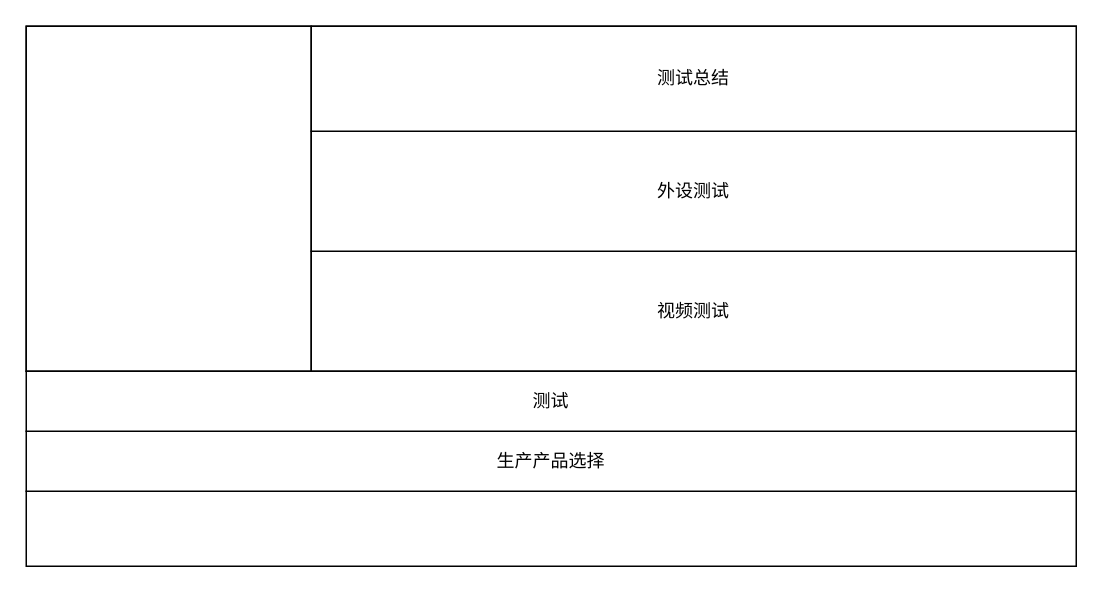
This 1103x593 diagram has some shape labels left out. The shapes that lost their labels are listed below. From the top down, each one's box as (x1, y1, x2, y2) in pixels, then its label:
(25, 25, 311, 371): 设备发现 测试列表
(25, 490, 1076, 566): CMainWindow(QStackedWidget)
